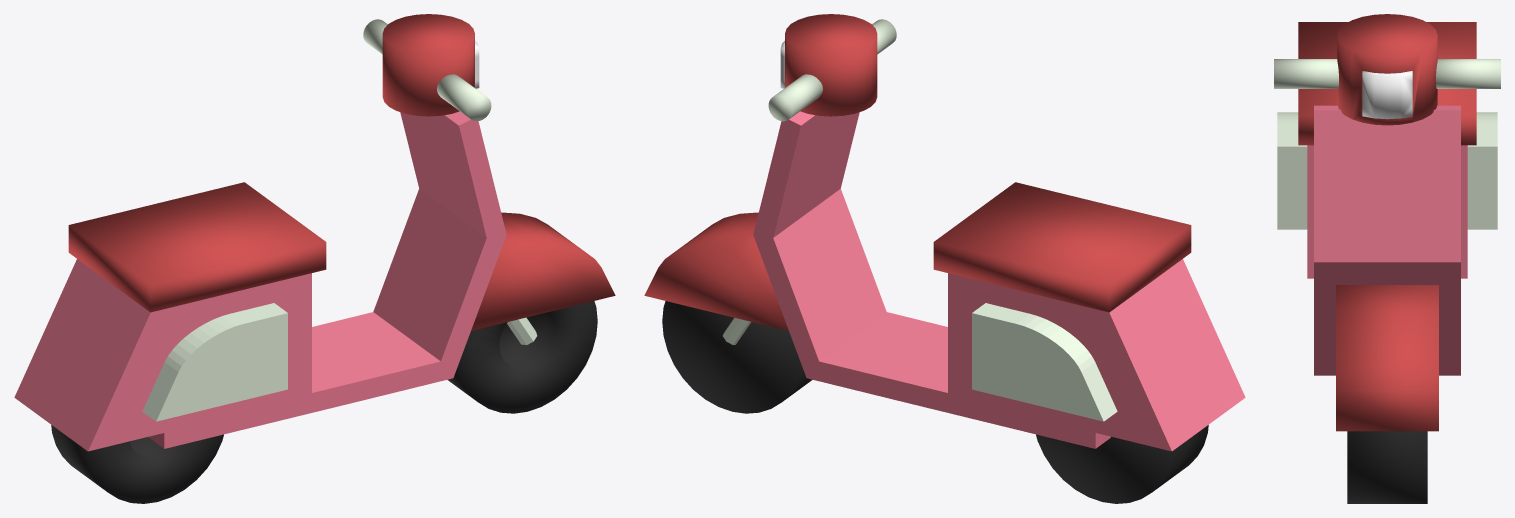
File: 粉红色电动车.fbx
3 renders of one model, left to right at view 1: azimuth 30°, elevation 25°; view 2: azimuth 150°, elevation 25°; view 3: azimuth 270°, elevation 25°, orthographic. The views are drawn at different scales.
Visible parts, largest first — view 1: 黄色电动车; view 2: 黄色电动车; view 3: 黄色电动车.
Boxes of the visible parts, x1,y1,x2,y2 form: 黄色电动车: (14,14,615,503); 黄色电动车: (644,14,1245,503); 黄色电动车: (1274,14,1500,503).
Bounding box in the file's own units: 164 × 111 × 54.83.
